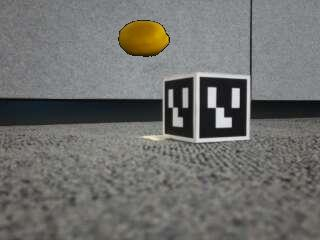lemon: (119, 21, 169, 56)
